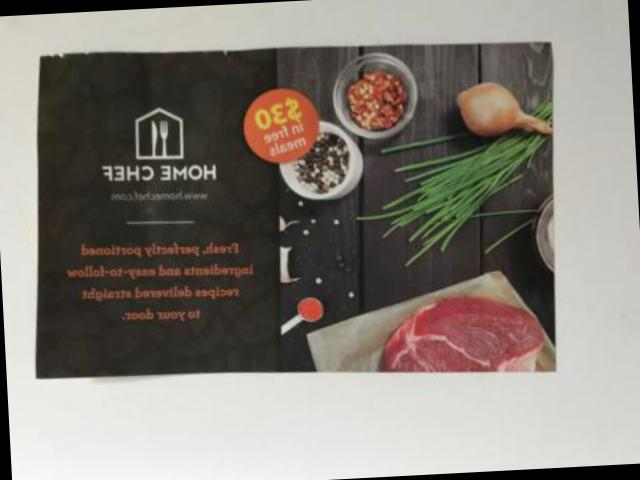cardboard paper: (35, 46, 552, 380)
